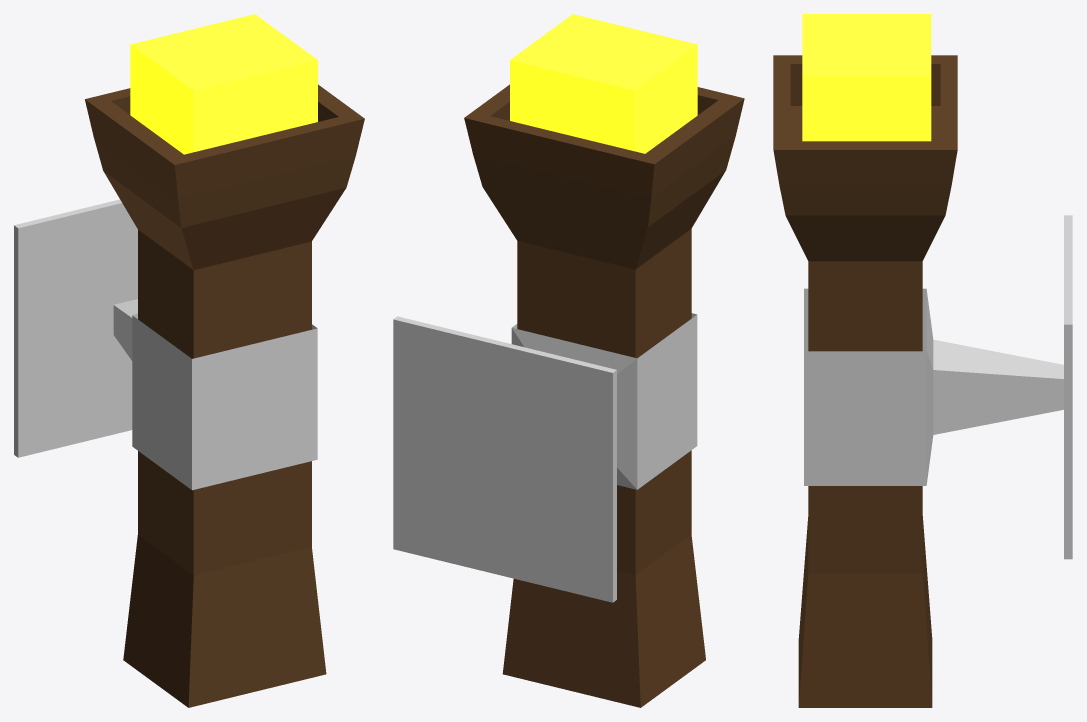
Rendered from pochodnia.fbx.
The picture shows the model from 3 angles, left to right: view 1: azimuth 30°, elevation 25°; view 2: azimuth 150°, elevation 25°; view 3: azimuth 270°, elevation 25°; orthographic projection. The views are drawn at different scales.
Visible parts, largest first — view 1: Cube.002, Plane.002, Cube.004; view 2: Cube.002, Plane.002, Cube.004; view 3: Cube.002, Plane.002, Cube.004.
Part boxes in pixels (x1,y1,x2,y2): Cube.002: (85, 84, 364, 707); Plane.002: (14, 199, 317, 490); Cube.004: (130, 14, 317, 154); Cube.002: (464, 84, 744, 707); Plane.002: (393, 313, 697, 602); Cube.004: (510, 14, 697, 153); Cube.002: (773, 55, 957, 707); Plane.002: (804, 215, 1072, 559); Cube.004: (802, 14, 931, 141).
Bounding box in the file's own units: 94.19 × 252 × 109.
